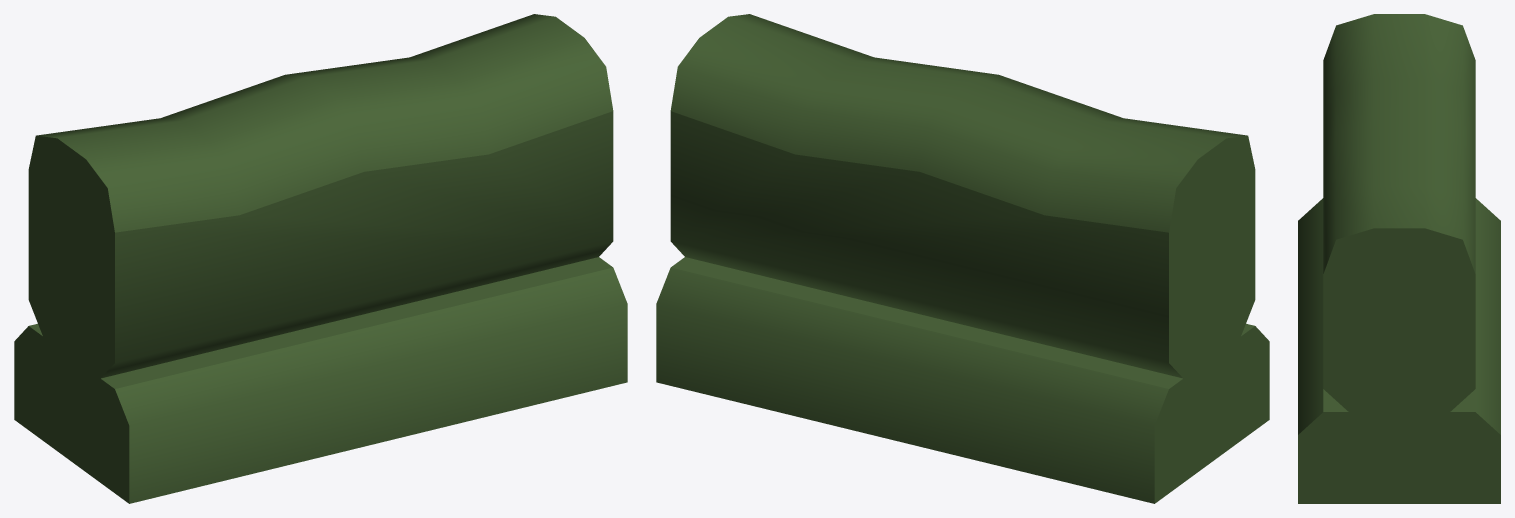
File: hedge.glb
3 renders of one model, left to right at view 1: azimuth 30°, elevation 25°; view 2: azimuth 150°, elevation 25°; view 3: azimuth 270°, elevation 25°, orthographic. The views are drawn at different scales.
Visible parts, largest first — view 1: hedge-large; view 2: hedge-large; view 3: hedge-large.
Boxes of the visible parts, x1,y1,x2,y2 form: hedge-large: (14, 14, 627, 503); hedge-large: (656, 14, 1269, 503); hedge-large: (1298, 14, 1500, 503).
Bounding box in the file's own units: 2 × 1.2 × 0.7999.
